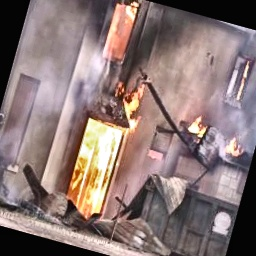fire: (65, 116, 129, 213), (103, 0, 140, 64)
